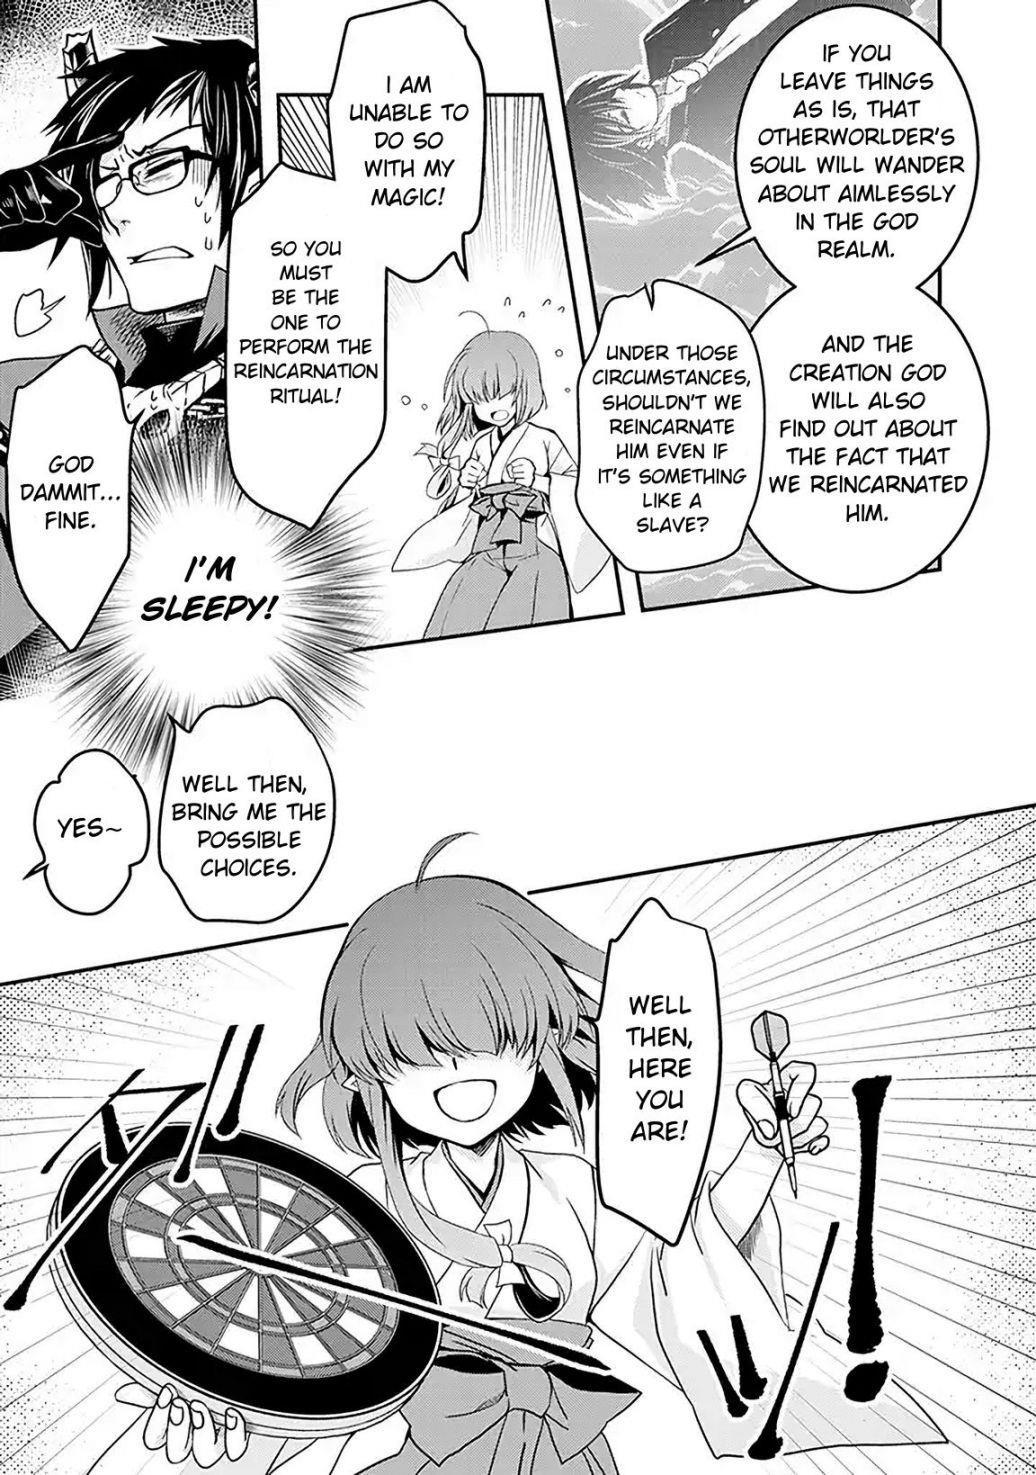Bubble: (731, 4, 983, 286), (769, 289, 992, 596), (572, 290, 760, 576), (222, 238, 391, 534), (592, 894, 724, 1249), (156, 696, 342, 926), (3, 343, 132, 653), (325, 0, 491, 213), (136, 536, 296, 693), (30, 745, 151, 917)
